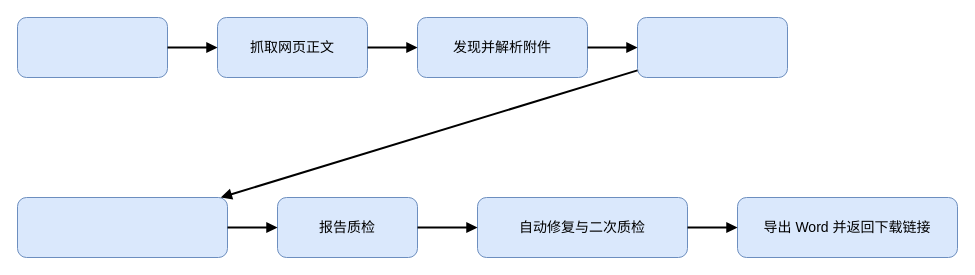
This 975x275 diagram has some shape labels left out. Each missing label, with the box of its shape:
生成 ReportIR 与 Markdown: (16, 196, 228, 258)
生成证据包: (636, 16, 788, 78)
输入公告 URL: (16, 16, 168, 78)
